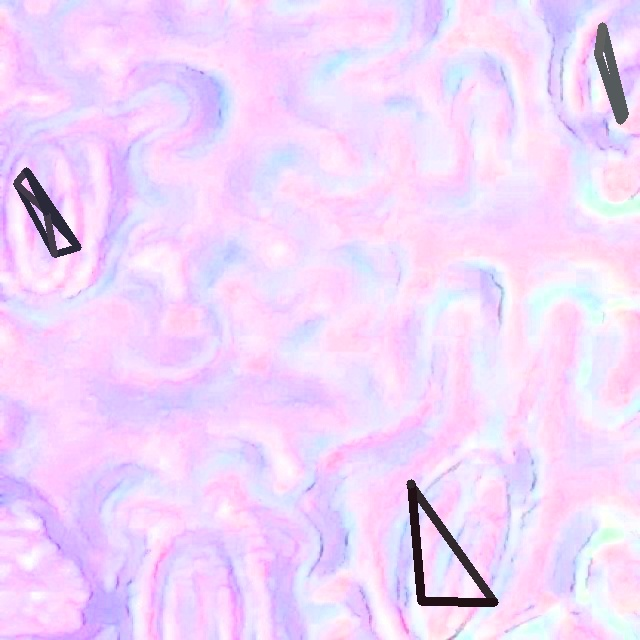open: (407, 480, 498, 605), (13, 168, 80, 256), (594, 23, 628, 123)
